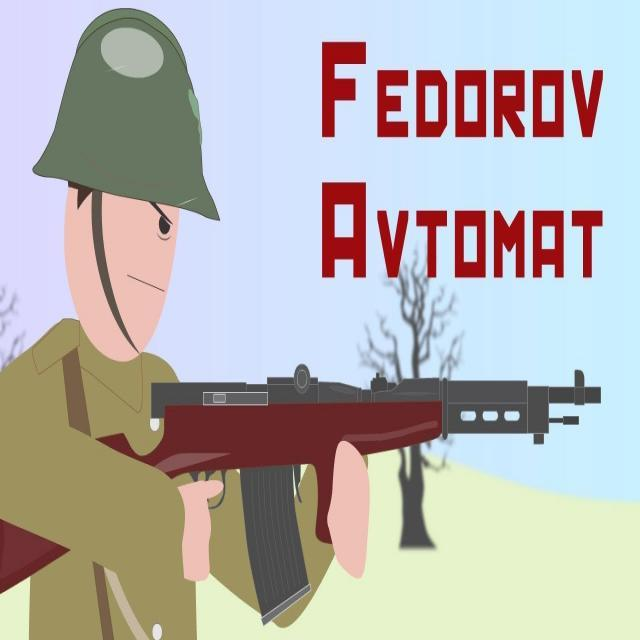rifle: (1, 369, 609, 614)
